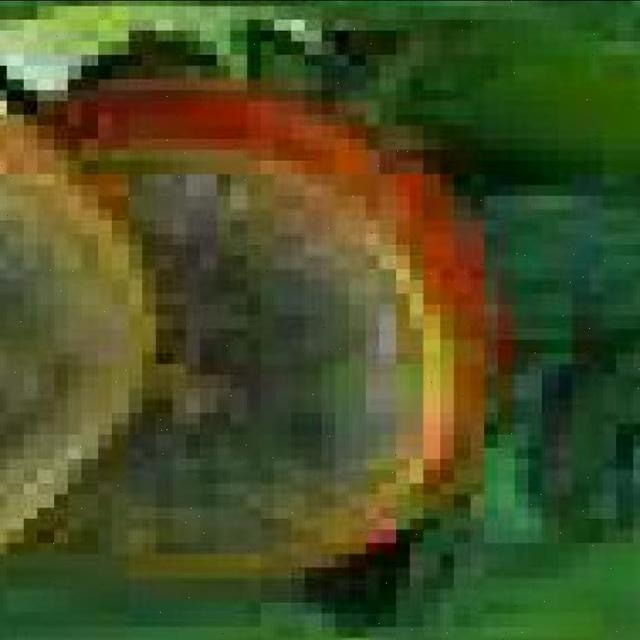Blossom End Rot Fruit: (44, 213, 268, 257)
